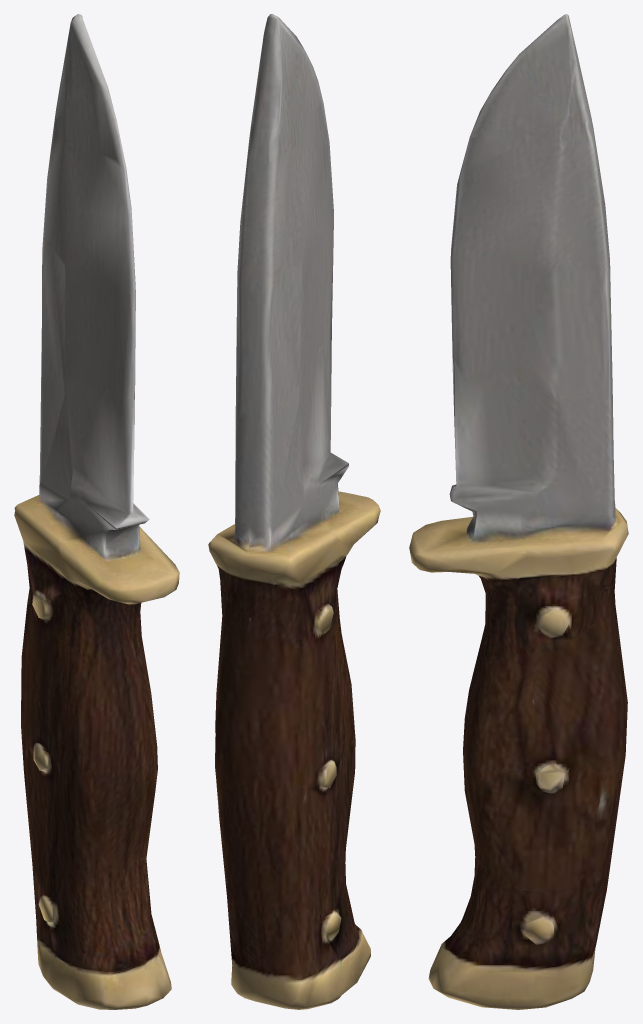
File: hunting_knife_lod1.glb
The picture shows the model from 3 angles, left to right: view 1: azimuth 30°, elevation 25°; view 2: azimuth 150°, elevation 25°; view 3: azimuth 270°, elevation 25°; orthographic projection. The views are drawn at different scales.
Visible parts, largest first — view 1: hunting_knife; view 2: hunting_knife; view 3: hunting_knife.
Boxes of the visible parts, x1,y1,x2,y2 form: hunting_knife: (14,14,179,1009); hunting_knife: (208,14,380,1009); hunting_knife: (409,14,628,1009).
Size of the model in its own units: 0.0257 by 0.2499 by 0.0508.
Materials: 1 (1 with a texture image).
